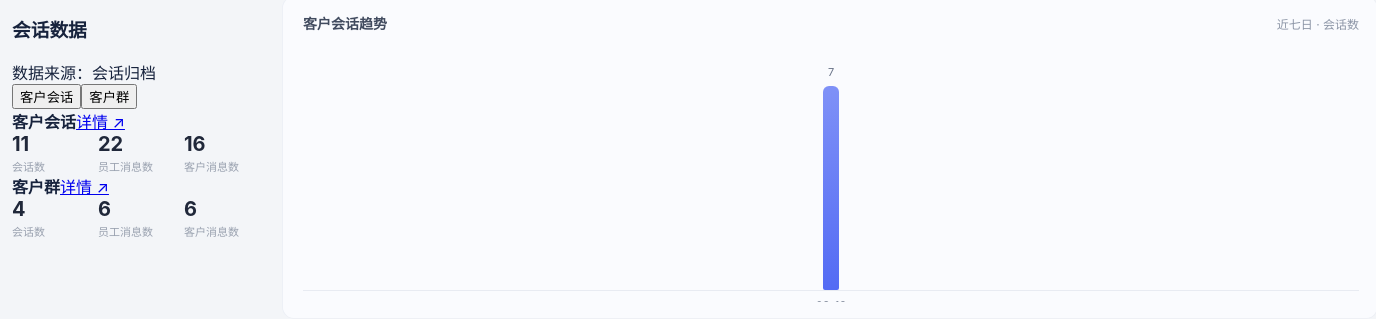
Test: dashboard overview widgets › switches the conversation summary and chart together
expect the text "11" is shown: met, box [12,132,29,156]
expect the text "16" is shown: met, box [184,132,206,156]
Click the button "客户群" at (109, 97), box [81,84,137,109]
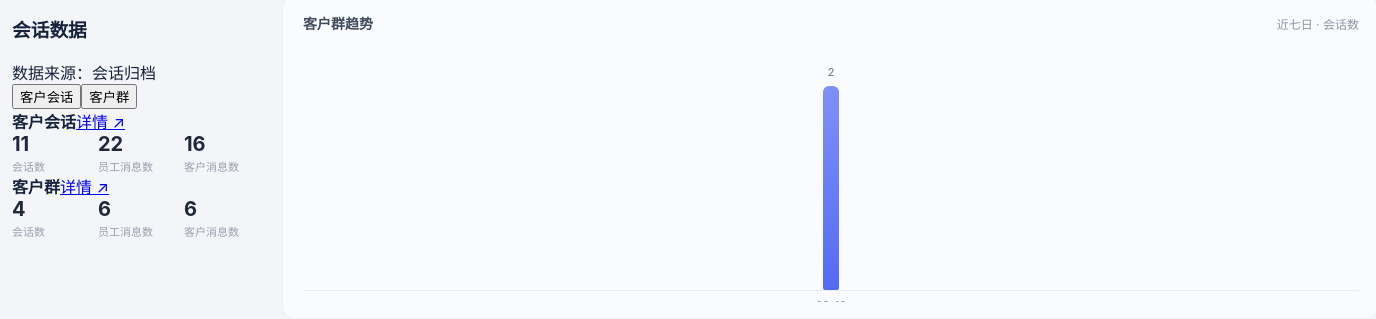
expect the element named "会话数 2" is shown: met, box [823,86,839,290]
expect the picture named "近七日客户群趋势" is shown: met, box [303,57,1359,302]
